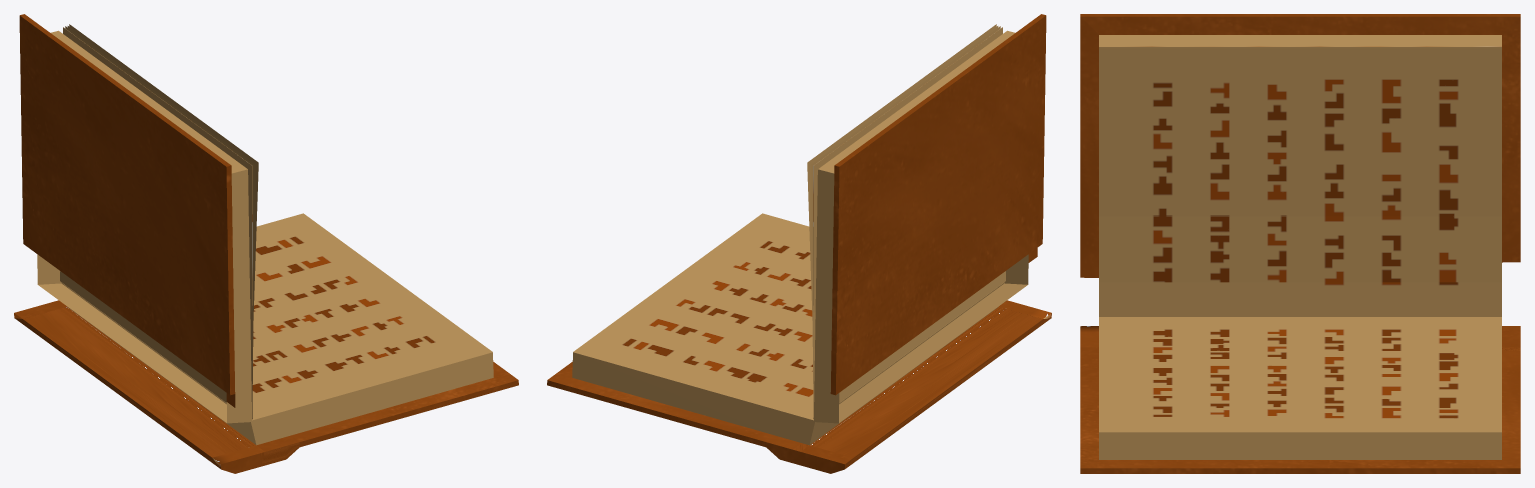
The model's file is livro.glb.
3 views of the same model, side by side, from view 1: azimuth 30°, elevation 25°; view 2: azimuth 150°, elevation 25°; view 3: azimuth 270°, elevation 25° (orthographic). The views are drawn at different scales.
Parts seen in each view (by area): view 1: Object_9.029, Object_9.010, pagina_1, pagina_4, pagina_3, pagina_2; view 2: Object_9.029, Object_9.010, pagina_1, pagina_4, pagina_3, pagina_2; view 3: Object_9.010, pagina_2, pagina_3, Object_9.029, pagina_4.
Part boxes in pixels (x1,y1,x2,y2): Object_9.029: (19, 14, 251, 423); Object_9.010: (14, 213, 518, 473); pagina_1: (60, 26, 256, 402); pagina_4: (63, 27, 252, 419); pagina_3: (65, 26, 254, 418); pagina_2: (69, 24, 258, 379); Object_9.029: (814, 14, 1046, 423); Object_9.010: (547, 213, 1051, 473); pagina_1: (809, 26, 1005, 402); pagina_4: (813, 27, 1002, 419); pagina_3: (811, 26, 1000, 418); pagina_2: (807, 24, 996, 379); Object_9.010: (1080, 317, 1520, 473); pagina_2: (1099, 48, 1501, 216); pagina_3: (1099, 47, 1501, 282); Object_9.029: (1080, 14, 1520, 316); pagina_4: (1099, 46, 1501, 316).
Bounding box in the file's own units: 1.66 × 1.65 × 2.
Materials: 2 (2 with a texture image).
